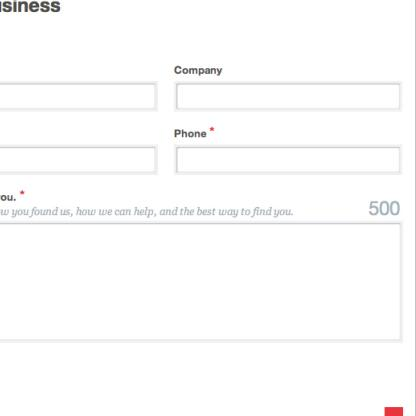field: (175, 80, 403, 113), (175, 144, 403, 175)
field_with_label: (173, 127, 407, 177), (173, 65, 406, 115)
